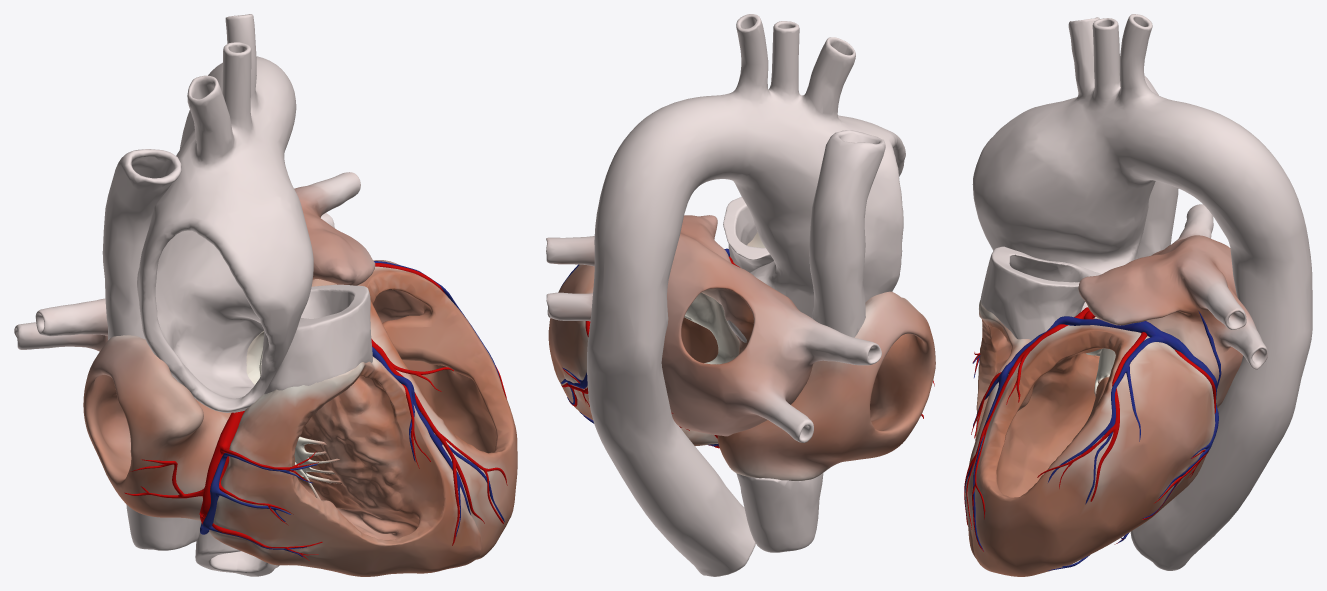
3 views of the same model, side by side, from view 1: azimuth 30°, elevation 25°; view 2: azimuth 150°, elevation 25°; view 3: azimuth 270°, elevation 25° (orthographic). The views are drawn at different scales.
Parts seen in each view (by area): view 1: aorta2, rechter_ventrikel, linker_ventrikel, rechter_atrium, linker_atrium, bicuspide_aortaklep_c2, pulmonary_trunk, arteries_3, bicuspide_aortaklep_c1, arteries_1, veins_4, veins_3 (+2 smaller); view 2: aorta2, linker_atrium, rechter_atrium, bicuspide_aortaklep_c2, bicuspide_aortaklep_c1, linker_ventrikel, pulmonary_trunk, av_valves; view 3: aorta2, linker_ventrikel, linker_atrium, pulmonary_trunk, veins_4, rechter_ventrikel, bicuspide_aortaklep_c2, arteries_1, arteries_5, veins_5, arteries_4, av_valves.
Part boxes in pixels (<box>): aorta2: <box>137,14,313,576</box>; rechter_ventrikel: <box>209,356,481,576</box>; linker_ventrikel: <box>358,260,517,559</box>; rechter_atrium: <box>83,335,231,520</box>; linker_atrium: <box>14,172,375,351</box>; bicuspide_aortaklep_c2: <box>102,149,181,340</box>; pulmonary_trunk: <box>264,284,372,394</box>; arteries_3: <box>124,410,318,525</box>; bicuspide_aortaklep_c1: <box>126,504,201,550</box>; arteries_1: <box>371,338,507,545</box>; veins_4: <box>372,261,504,536</box>; veins_3: <box>200,453,317,557</box>; aorta2: <box>587,14,905,576</box>; linker_atrium: <box>546,215,881,442</box>; rechter_atrium: <box>717,291,935,480</box>; bicuspide_aortaklep_c2: <box>809,130,885,337</box>; bicuspide_aortaklep_c1: <box>736,473,823,552</box>; linker_ventrikel: <box>548,264,718,446</box>; pulmonary_trunk: <box>723,197,773,272</box>; av_valves: <box>684,293,739,364</box>; aorta2: <box>972,14,1312,570</box>; linker_ventrikel: <box>967,318,1215,576</box>; linker_atrium: <box>1078,204,1267,407</box>; pulmonary_trunk: <box>980,246,1101,340</box>; veins_4: <box>964,316,1188,550</box>; rechter_ventrikel: <box>965,300,1099,558</box>; bicuspide_aortaklep_c2: <box>1137,75,1178,258</box>; arteries_1: <box>964,307,1089,551</box>; arteries_5: <box>1037,310,1147,501</box>; veins_5: <box>1048,311,1221,570</box>; arteries_4: <box>1142,349,1215,519</box>; av_valves: <box>1094,348,1115,396</box>.
Size of the model in its own units: 1.4 by 2 by 1.17.
